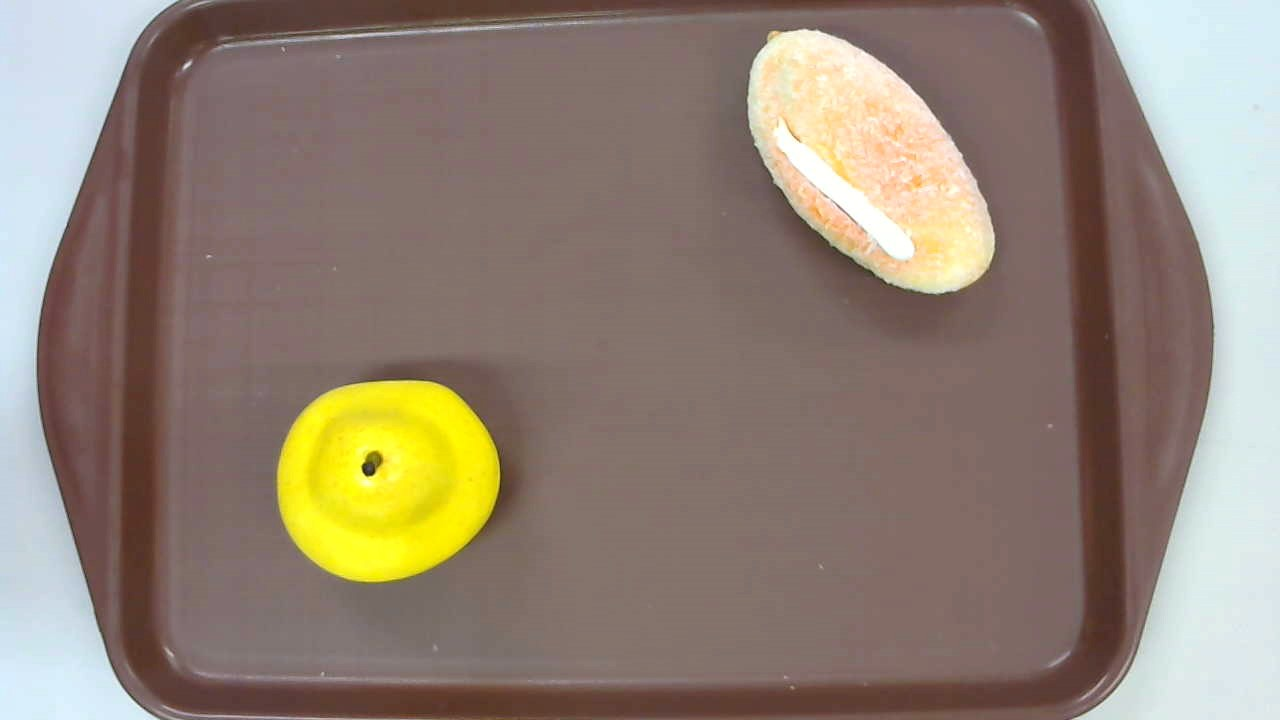coconut: (746, 29, 995, 295)
yellow pear: (277, 380, 501, 581)
